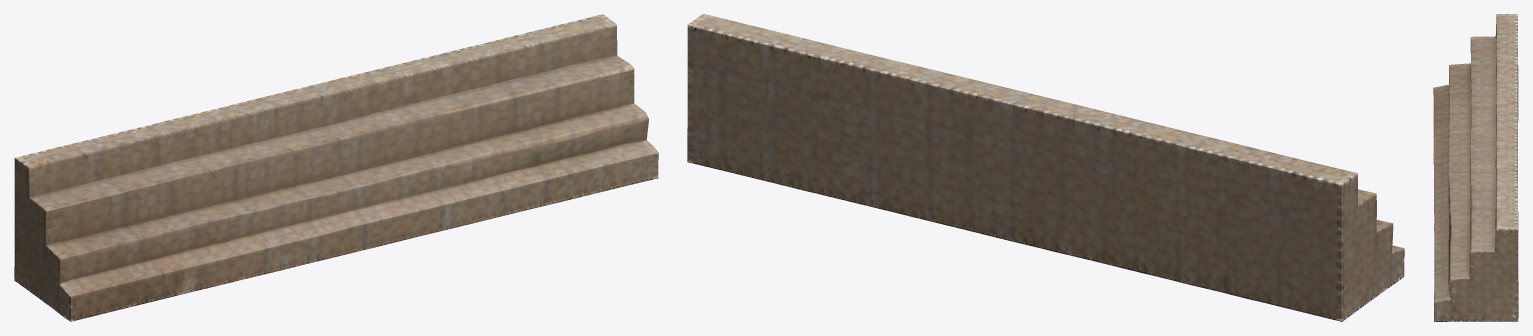
Rendered from gabion-wall.glb.
The picture shows the model from 3 angles, left to right: view 1: azimuth 30°, elevation 25°; view 2: azimuth 150°, elevation 25°; view 3: azimuth 270°, elevation 25°; orthographic projection. The views are drawn at different scales.
Parts seen in each view (by area): view 1: gabion-wall; view 2: gabion-wall; view 3: gabion-wall.
Part boxes in pixels (<box>): gabion-wall: <box>14,14,658,321</box>; gabion-wall: <box>687,14,1404,321</box>; gabion-wall: <box>1433,14,1518,321</box>.
Size of the model in its own units: 5.96 by 1.2 by 0.9953.
Materials: 1 (1 with a texture image).
